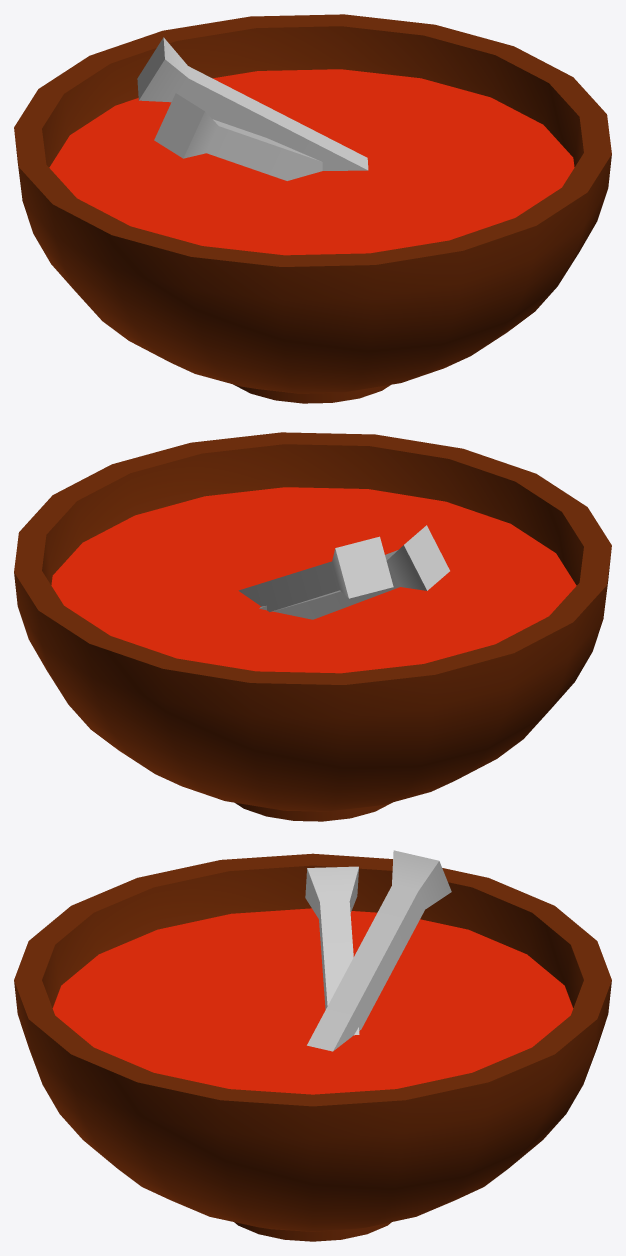
File: Bone Broth.fbx
The picture shows the model from 3 angles, top to bottom: view 1: azimuth 30°, elevation 25°; view 2: azimuth 150°, elevation 25°; view 3: azimuth 270°, elevation 25°; orthographic projection.
Visible parts, largest first — view 1: Bone_Broth1; view 2: Bone_Broth1; view 3: Bone_Broth1.
Part boxes in pixels (x1,y1,x2,y2): Bone_Broth1: [14, 14, 611, 403]; Bone_Broth1: [14, 432, 611, 821]; Bone_Broth1: [14, 850, 611, 1241].
Bounding box in the file's own units: 2 × 1.15 × 2.
